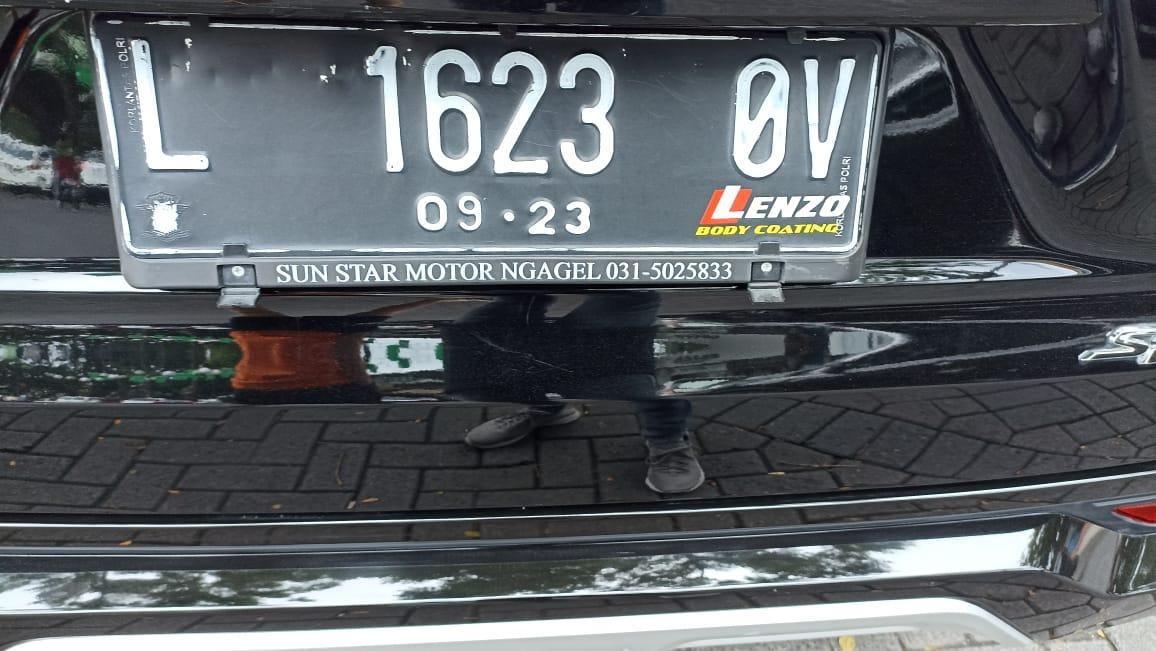plat: (90, 18, 885, 289)
